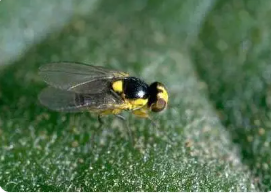liriomyza: (35, 61, 169, 134)
